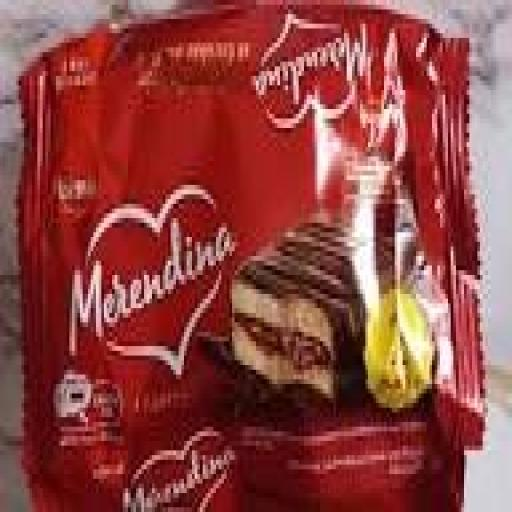merendina: (15, 28, 512, 449)
